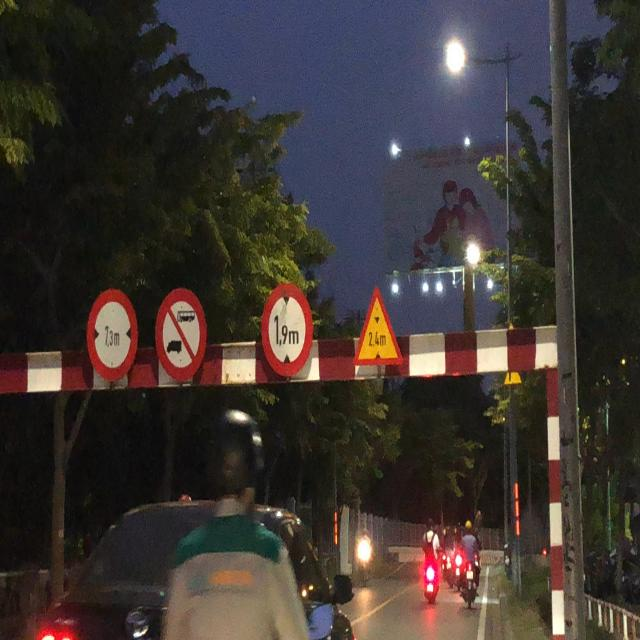Bien bao cam xe oto khach va xe oto tai: (154, 285, 212, 388)
Bien bao chieu cao tinh khong thuc te: (350, 282, 410, 378)
Bien bao han che chieu cao: (258, 282, 316, 384)
